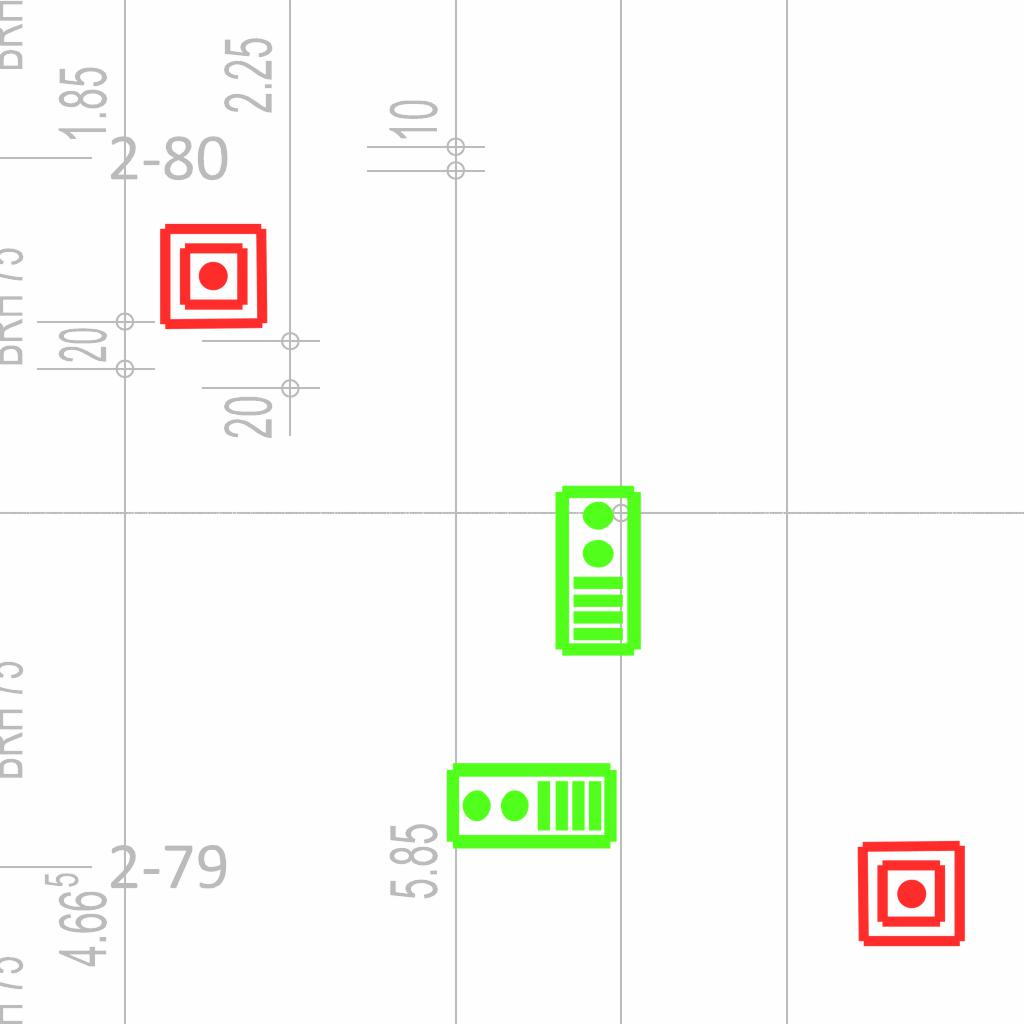Gegensprechanlage_mit_Video: (443, 760, 619, 855), (549, 482, 644, 658)
NAM-Nichtautomatischer_Melder: (855, 837, 968, 950), (157, 220, 270, 333)
